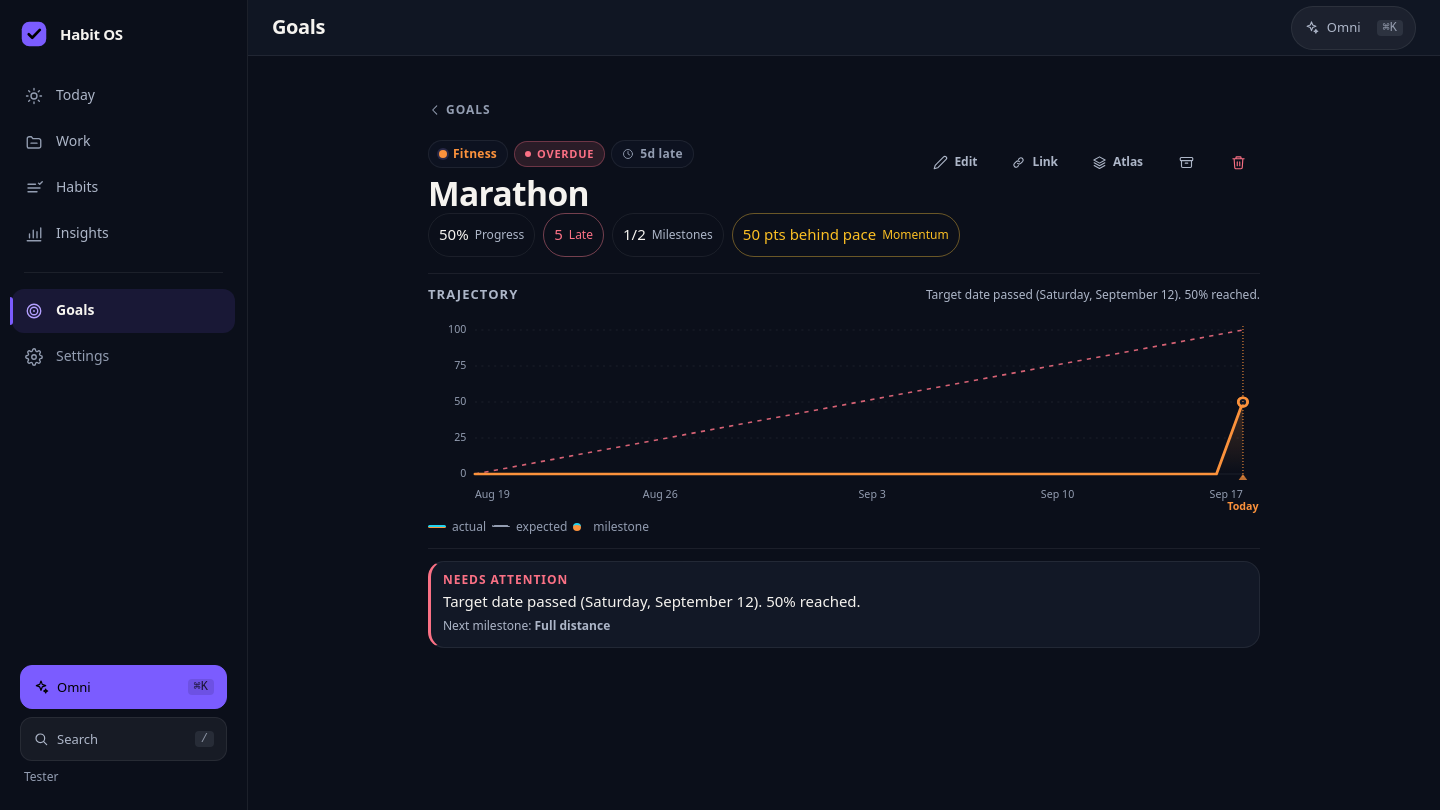
Test: Goal detail — outcome-first › asks before destructive archive
The image size is (1440, 810).
Expected: the heading "Marathon" is shown, [428,170,589,216]
Click the button named "Archive goal". click: [1186, 162]
box: [1164,140,1208,184]
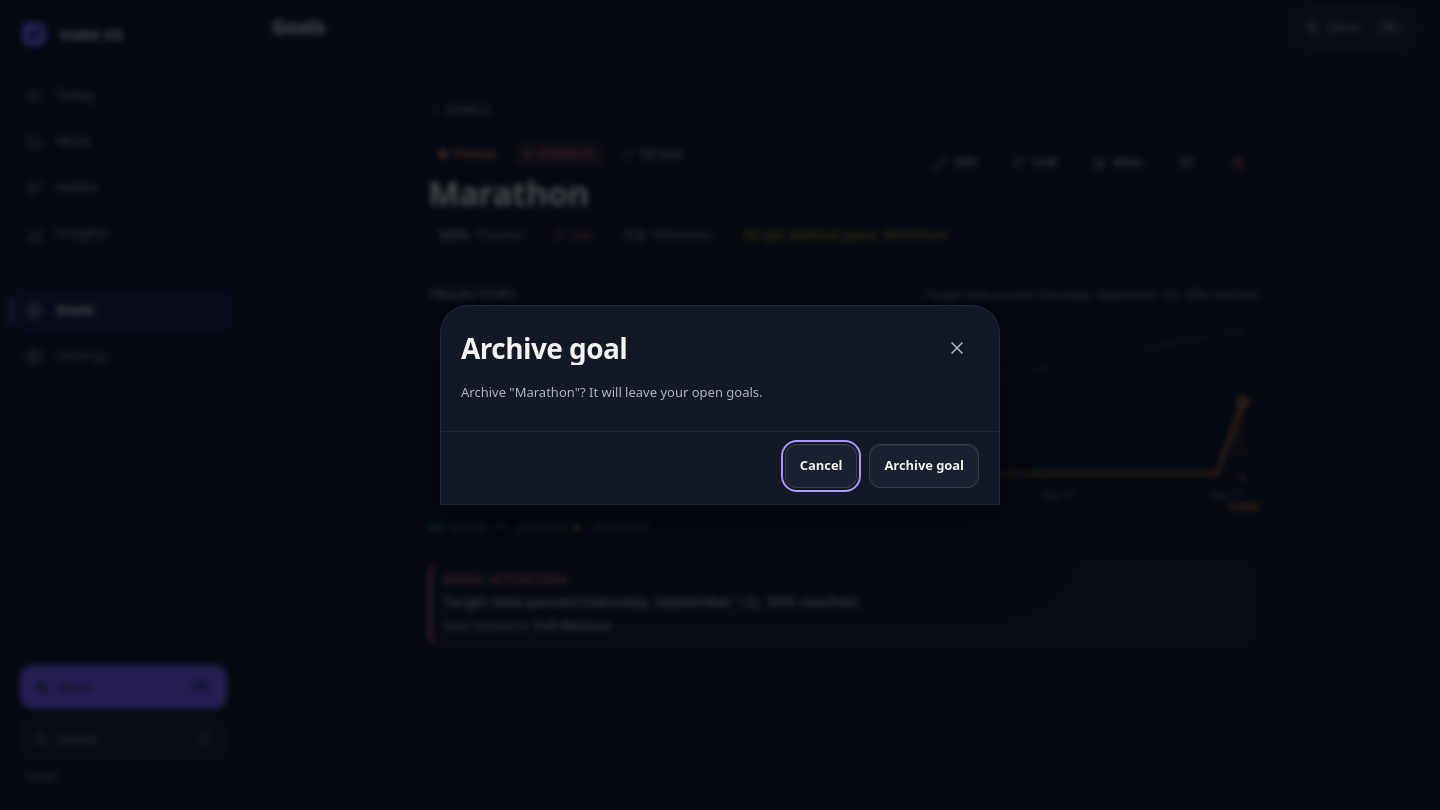
Now the button "Archive goal" is shown, box [869,444,979,488]
